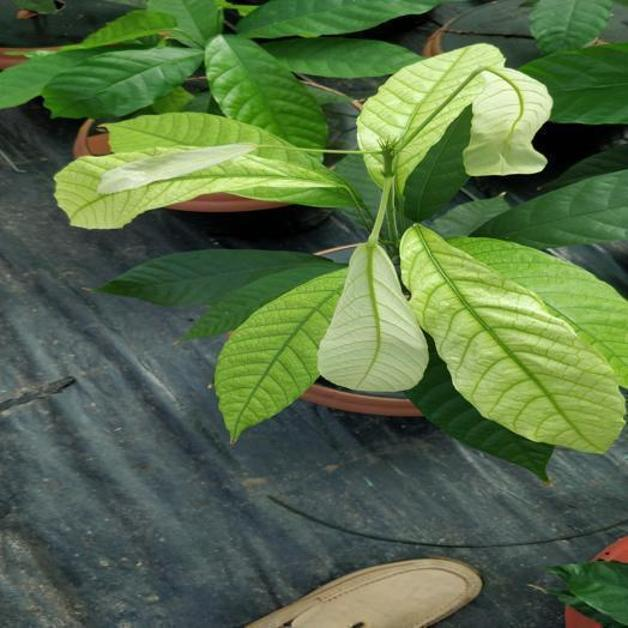Healthy Leaf: (214, 270, 345, 440), (405, 340, 552, 480), (207, 35, 326, 147), (100, 249, 331, 305), (476, 170, 627, 248), (42, 47, 202, 115), (184, 267, 333, 339), (520, 43, 627, 124), (238, 0, 440, 37), (404, 108, 469, 220), (263, 38, 421, 77), (0, 53, 94, 108), (553, 561, 627, 625), (63, 10, 174, 50), (530, 0, 612, 53), (148, 0, 221, 46)
Iron: (401, 225, 623, 452), (450, 238, 627, 388), (55, 145, 347, 228), (214, 271, 345, 441), (358, 44, 504, 191), (319, 240, 428, 391), (463, 68, 552, 174), (102, 112, 290, 158)
